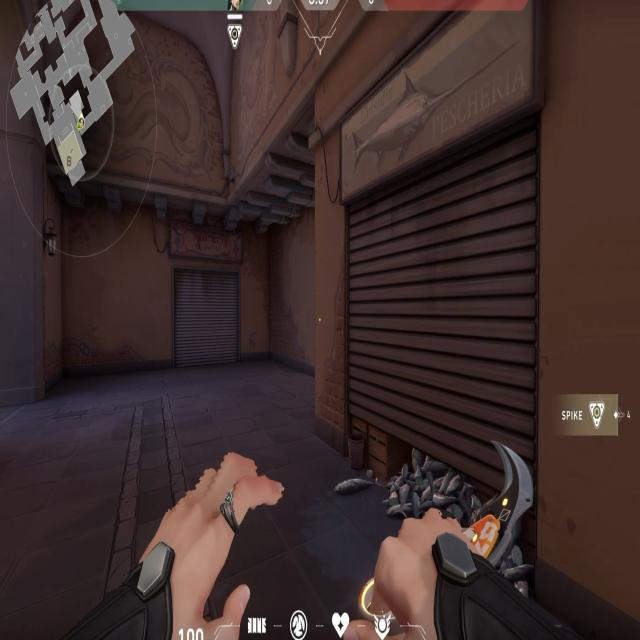B_Main_Corner: (312, 63, 567, 494)
